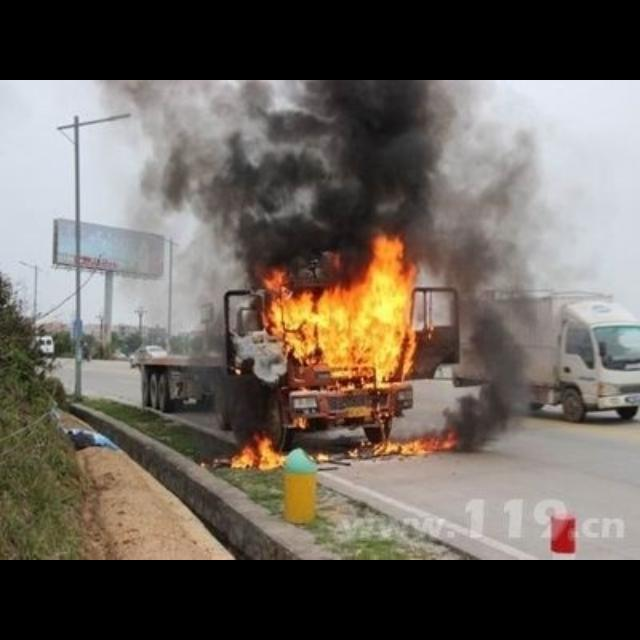Fire: (260, 235, 438, 395), (227, 416, 331, 470), (346, 431, 458, 459)
Smoke: (98, 82, 590, 235), (446, 238, 564, 450), (168, 240, 260, 417)
